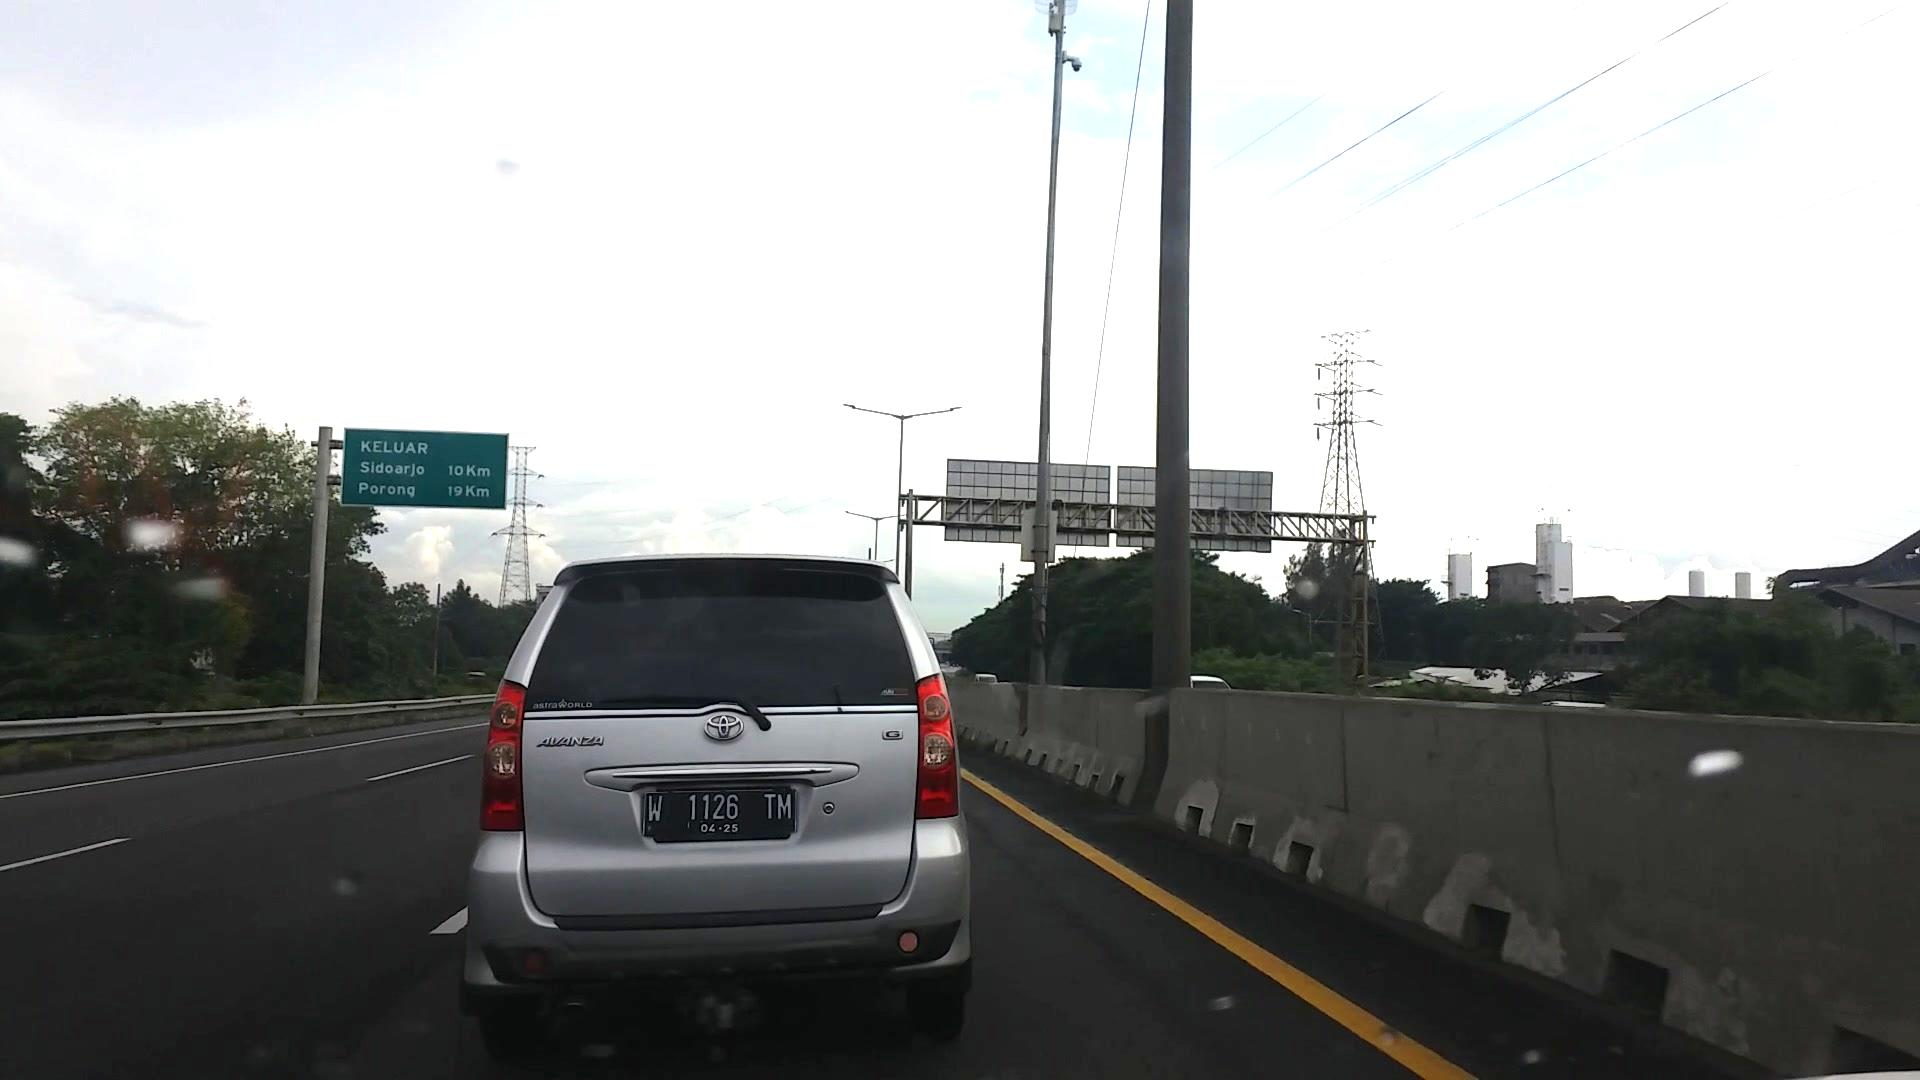plate_positive: (644, 791, 796, 833)
